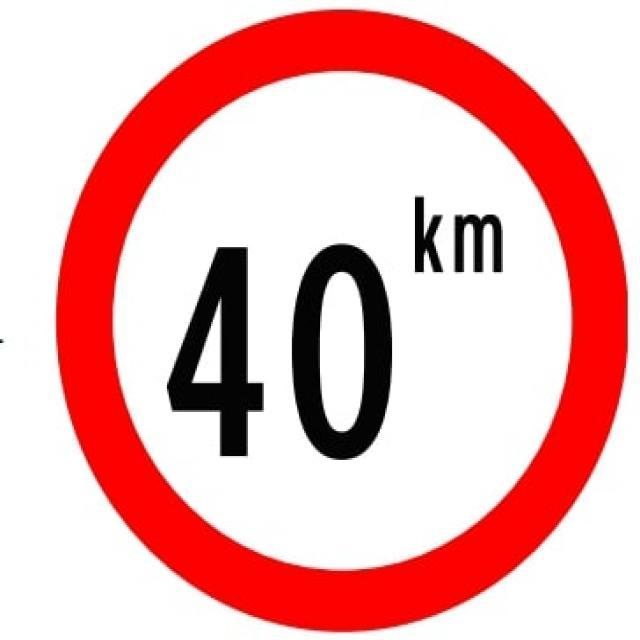Kecepatan Maks. 40 km: (52, 8, 628, 634)
